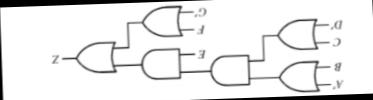and: (207, 49, 252, 88), (140, 44, 182, 82)
or: (71, 36, 119, 77), (275, 57, 321, 94), (273, 15, 318, 52), (138, 4, 184, 40)
